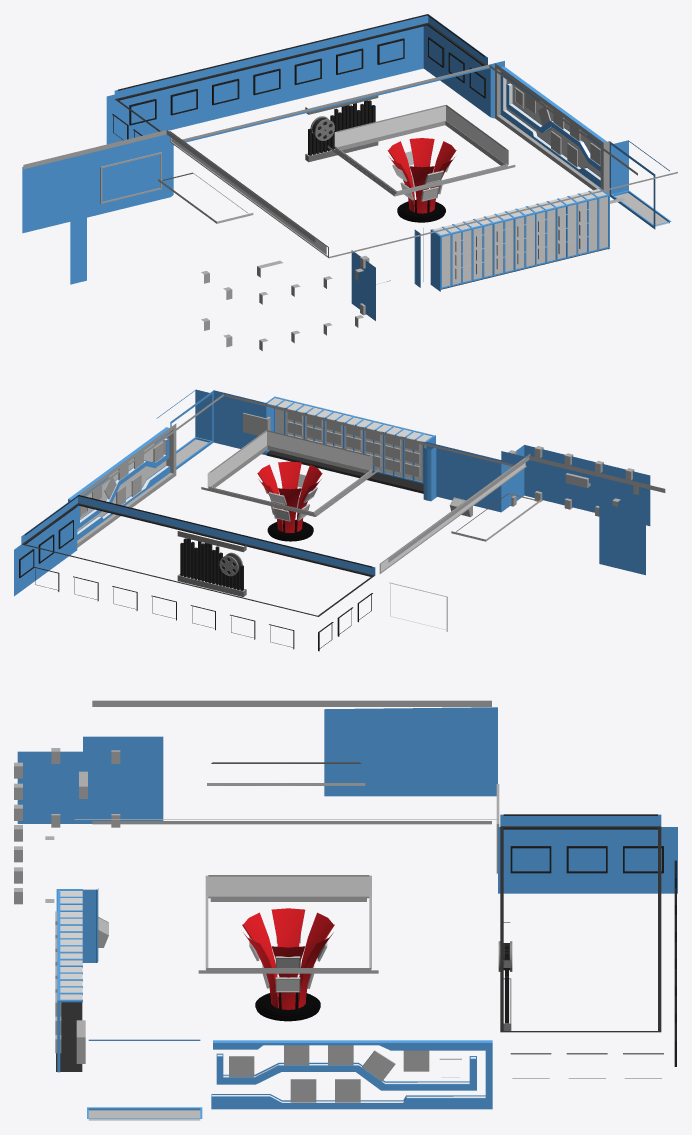
The model's file is room2.glb.
3 views of the same model, one above another, from view 1: azimuth 30°, elevation 25°; view 2: azimuth 150°, elevation 25°; view 3: azimuth 270°, elevation 25° (orthographic). The views are drawn at different scales.
Visible parts, largest first — view 1: YFCG_2666, YFCG_2669, YFCG_2667, YFCG_2701, YFCG_2672, YFCG_2744, YFCG_2688, YFCG_2674, YFCG_2673, YFCG_2700, YFCG_2728, YFCG_2711 (+14 smaller); view 2: YFCG_2670, YFCG_2667, YFCG_2711, YFCG_2669, YFCG_2724, YFCG_2701, YFCG_2666, YFCG_2700, YFCG_2744, YFCG_2688, YFCG_2750, YFCG_2674 (+14 smaller); view 3: YFCG_2666, YFCG_2670, YFCG_2674, YFCG_2667, YFCG_2688, YFCG_2744, YFCG_2700, YFCG_2669, YFCG_2728, YFCG_2725, YFCG_2701, YFCG_2686 (+10 smaller).
Part boxes in pixels (bbox=[...]): YFCG_2666: bbox=[22, 25, 504, 284]; YFCG_2669: bbox=[433, 189, 607, 287]; YFCG_2667: bbox=[23, 64, 677, 258]; YFCG_2701: bbox=[114, 14, 487, 98]; YFCG_2672: bbox=[431, 188, 609, 288]; YFCG_2744: bbox=[337, 106, 506, 164]; YFCG_2688: bbox=[387, 138, 456, 213]; YFCG_2674: bbox=[500, 66, 606, 187]; YFCG_2673: bbox=[495, 63, 610, 194]; YFCG_2700: bbox=[115, 14, 485, 131]; YFCG_2728: bbox=[112, 37, 485, 140]; YFCG_2711: bbox=[607, 140, 671, 249]; YFCG_2670: bbox=[426, 442, 650, 575]; YFCG_2667: bbox=[84, 394, 665, 573]; YFCG_2711: bbox=[156, 389, 274, 469]; YFCG_2669: bbox=[267, 398, 431, 481]; YFCG_2724: bbox=[287, 409, 420, 476]; YFCG_2701: bbox=[21, 495, 375, 575]; YFCG_2666: bbox=[14, 507, 77, 596]; YFCG_2700: bbox=[22, 495, 374, 616]; YFCG_2744: bbox=[210, 431, 370, 486]; YFCG_2688: bbox=[257, 461, 322, 532]; YFCG_2750: bbox=[180, 538, 243, 590]; YFCG_2674: bbox=[68, 427, 170, 540]; YFCG_2666: bbox=[324, 707, 677, 893]; YFCG_2670: bbox=[17, 736, 163, 823]; YFCG_2674: bbox=[211, 1040, 492, 1109]; YFCG_2667: bbox=[74, 700, 496, 973]; YFCG_2688: bbox=[242, 908, 334, 1009]; YFCG_2744: bbox=[208, 876, 369, 896]; YFCG_2700: bbox=[500, 814, 661, 1032]; YFCG_2669: bbox=[60, 891, 82, 999]; YFCG_2728: bbox=[510, 846, 676, 1078]; YFCG_2725: bbox=[14, 748, 120, 904]; YFCG_2701: bbox=[500, 814, 661, 826]; YFCG_2686: bbox=[206, 896, 371, 970].
Bounding box in the file's own units: 35.24 × 5.07 × 29.32.
Materials: 23 (3 with a texture image).
